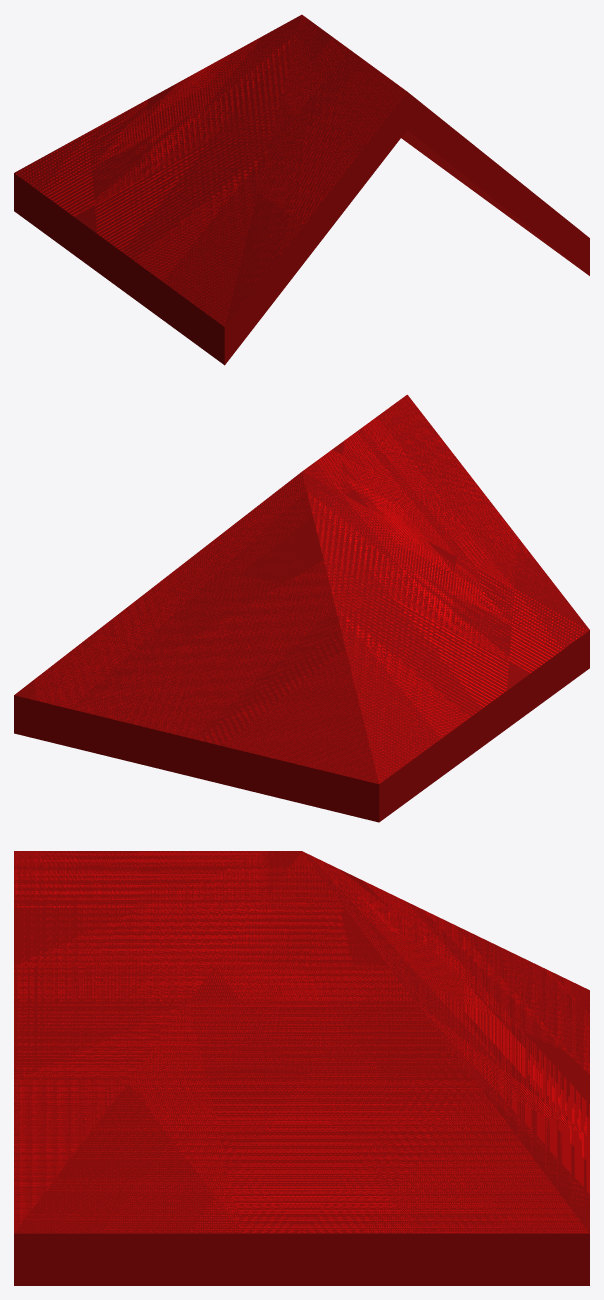
The model's file is roof_hip_end.fbx.
The picture shows the model from 3 angles, top to bottom: view 1: azimuth 30°, elevation 25°; view 2: azimuth 150°, elevation 25°; view 3: azimuth 270°, elevation 25°; orthographic projection. The views are drawn at different scales.
Visible parts, largest first — view 1: Mesh1_peak2_1 Model; view 2: Mesh1_peak2_1 Model; view 3: Mesh1_peak2_1 Model.
Boxes of the visible parts, bbox=[...] form: Mesh1_peak2_1 Model: bbox=[14, 14, 589, 365]; Mesh1_peak2_1 Model: bbox=[14, 394, 589, 822]; Mesh1_peak2_1 Model: bbox=[14, 851, 589, 1285].
Bounding box in the file's own units: 1 × 0.6 × 1.
